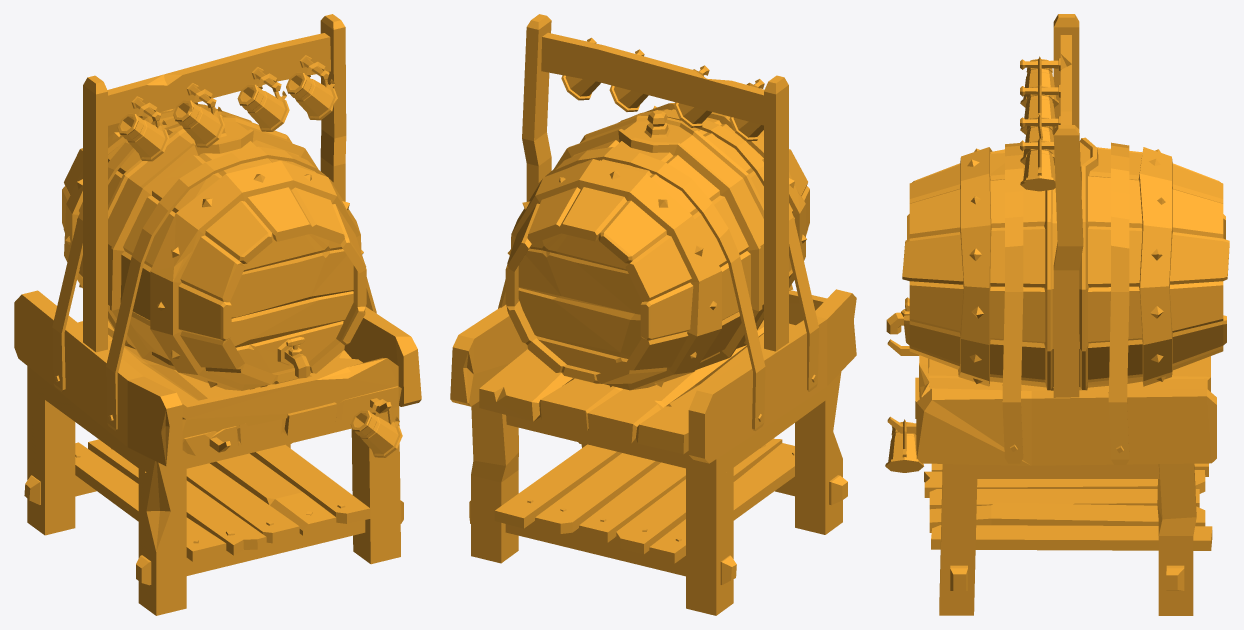
Rendered from SM_Table_Tap_A_Barrel_Fantasy.fbx.
3 renders of one model, left to right at view 1: azimuth 30°, elevation 25°; view 2: azimuth 150°, elevation 25°; view 3: azimuth 270°, elevation 25°, orthographic.
Visible parts, largest first — view 1: table-tap-a-barrel-fantasy; view 2: table-tap-a-barrel-fantasy; view 3: table-tap-a-barrel-fantasy.
Part boxes in pixels (x1,y1,x2,y2): table-tap-a-barrel-fantasy: (14, 14, 421, 615); table-tap-a-barrel-fantasy: (450, 14, 856, 615); table-tap-a-barrel-fantasy: (885, 14, 1229, 615).
Size of the model in its own units: 1.18 by 2.1 by 1.35.
